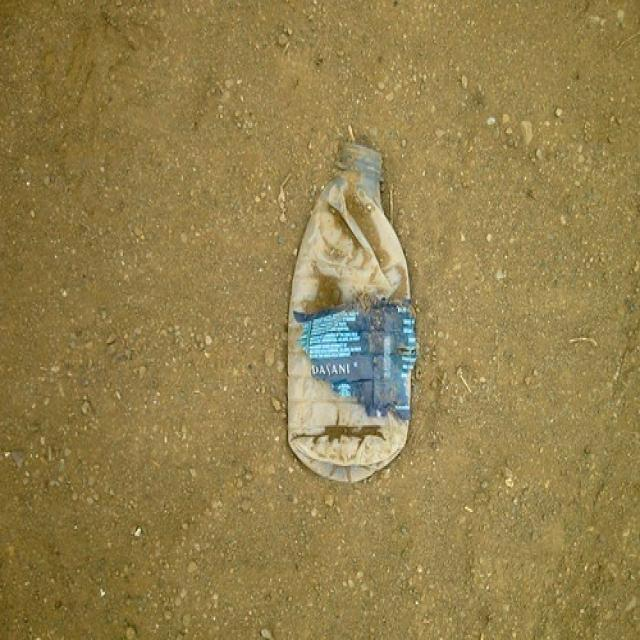bottle: (288, 144, 413, 483)
